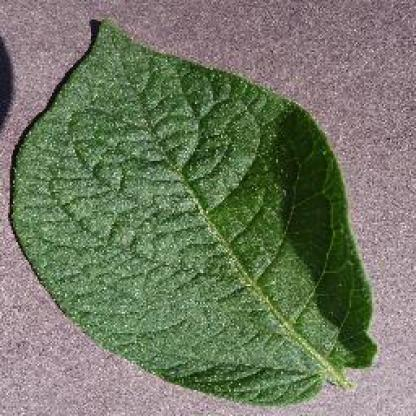bad leaf: (10, 19, 369, 415)
